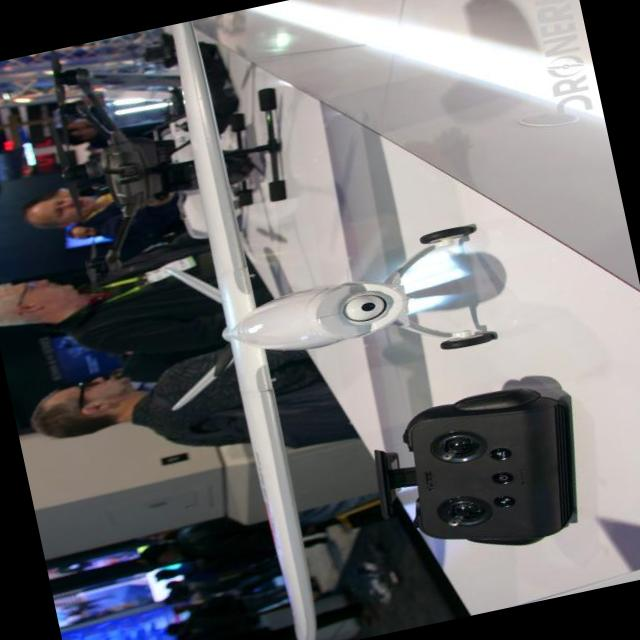UAV: (125, 0, 526, 640)
